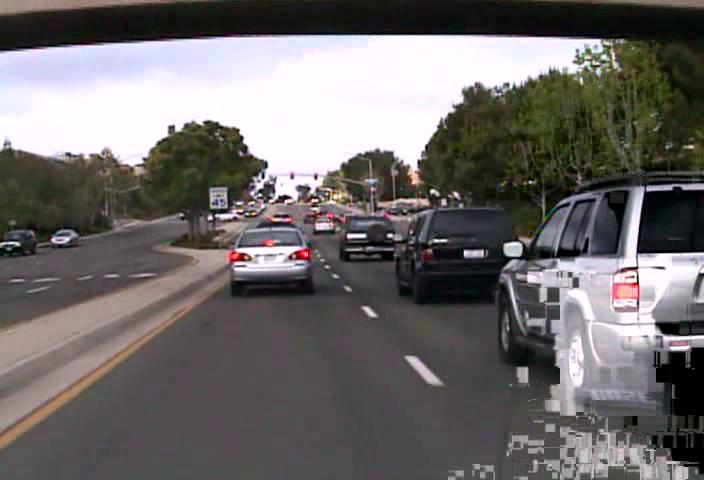speedLimit45: (208, 185, 228, 209)
